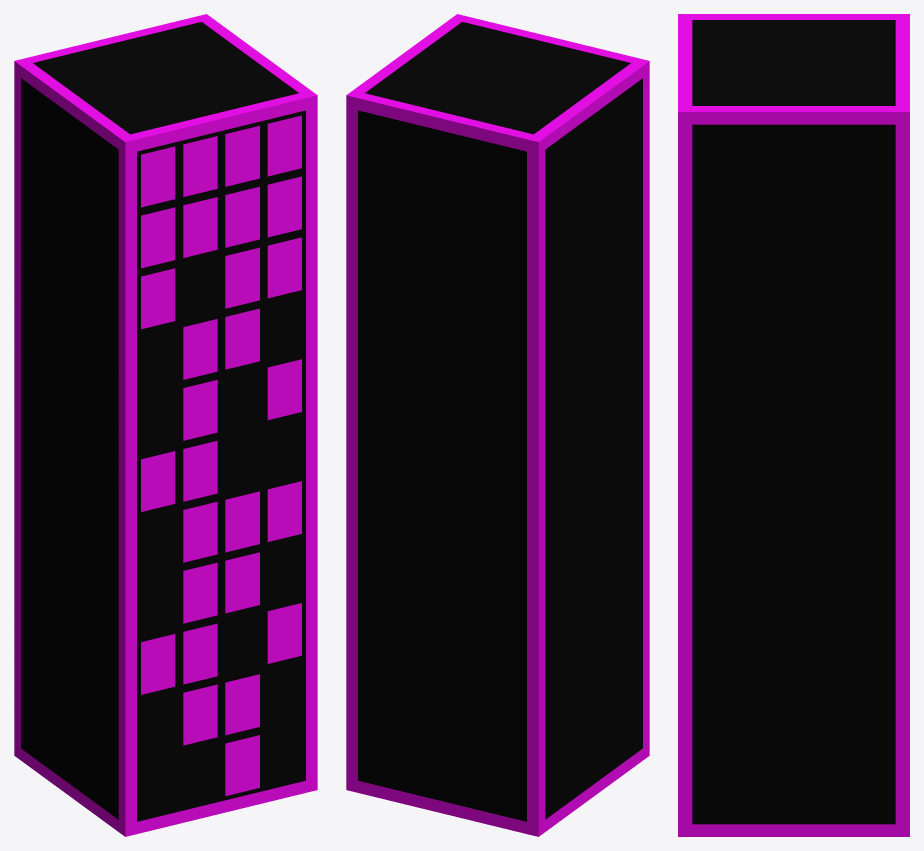
3 views of the same model, side by side, from view 1: azimuth 30°, elevation 25°; view 2: azimuth 150°, elevation 25°; view 3: azimuth 270°, elevation 25° (orthographic). The views are drawn at different scales.
Parts seen in each view (by area): view 1: Box079; view 2: Box079; view 3: Box079.
Boxes of the visible parts, left/top/right/bottom form: Box079: left=14, top=14, right=317, bottom=836; Box079: left=346, top=14, right=649, bottom=836; Box079: left=678, top=14, right=909, bottom=836.
Size of the model in its own units: 24.68 by 85.17 by 24.68.
